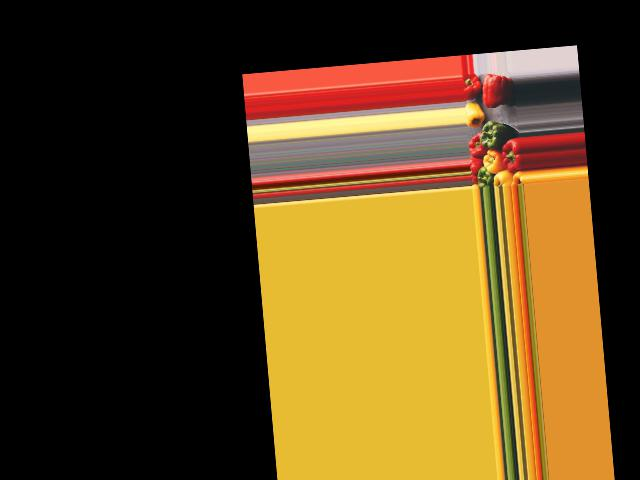bell_pepper: (464, 72, 482, 100)
